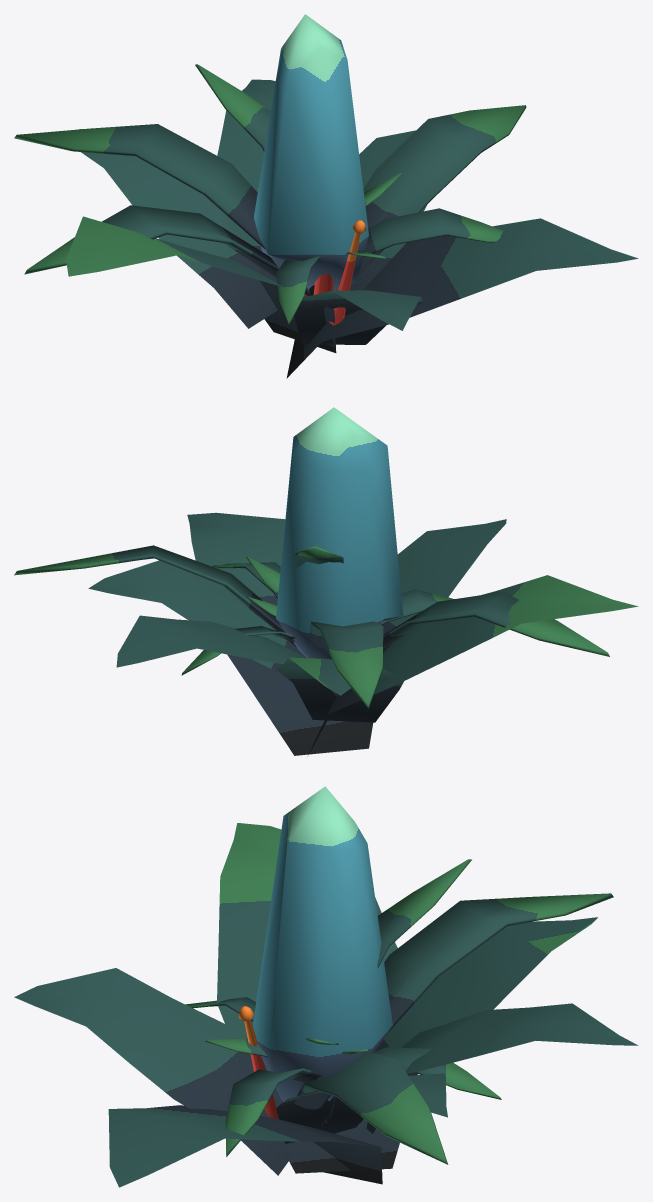
File: Flower_2.fbx
3 views of the same model, one above another, from view 1: azimuth 30°, elevation 25°; view 2: azimuth 150°, elevation 25°; view 3: azimuth 270°, elevation 25° (orthographic). The views are drawn at different scales.
Visible parts, largest first — view 1: Crystal04; view 2: Crystal04; view 3: Crystal04.
Part boxes in pixels (box(x1,y1,x2,y2)): Crystal04: box(14, 14, 638, 378); Crystal04: box(14, 407, 638, 756); Crystal04: box(14, 786, 638, 1187).
Bounding box in the file's own units: 111 × 66.91 × 95.32.
Materials: 1 (1 with a texture image).
